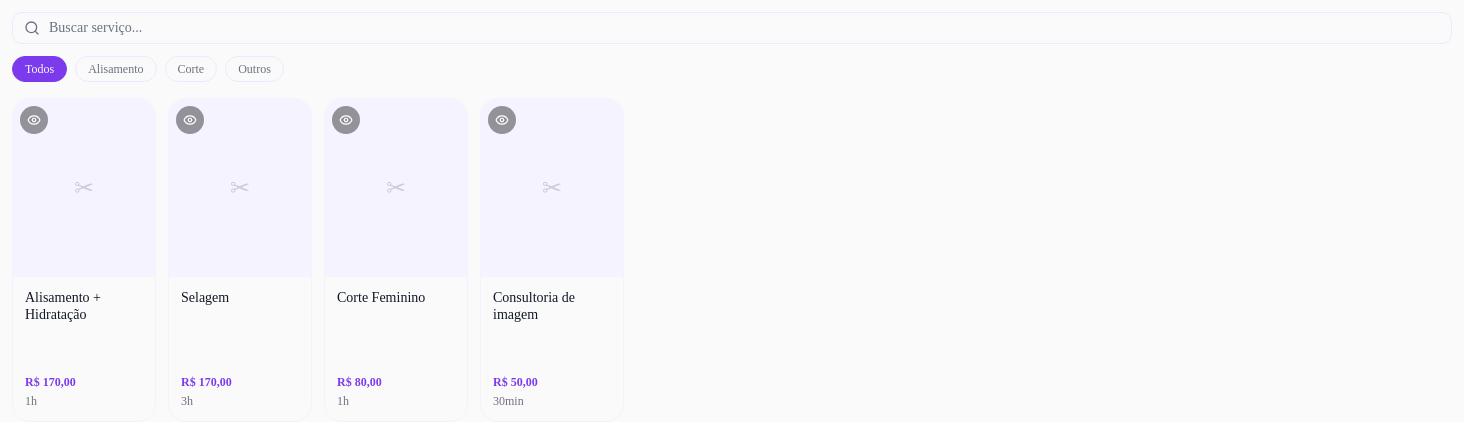
Test: ServicePickerWithCategories › ao digitar na busca, esconde os chips e filtra por nome (ignorando acentos/caixa)
The image size is (1464, 422).
Step 1. Type "alisamento" into the field with placeholder "Buscar serviço..." → (732, 28), box [12, 12, 1452, 44]
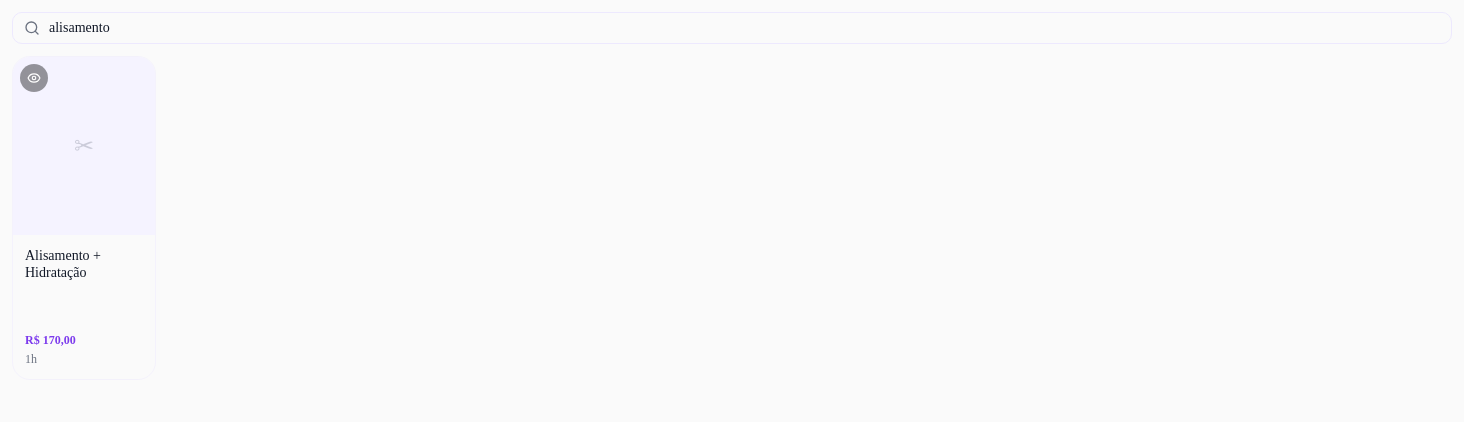
Expected: the text "Alisamento + Hidratação" is shown, [25, 248, 101, 280]
Result: the button "Todos" is gone
Result: the button "Corte Feminino" is gone
